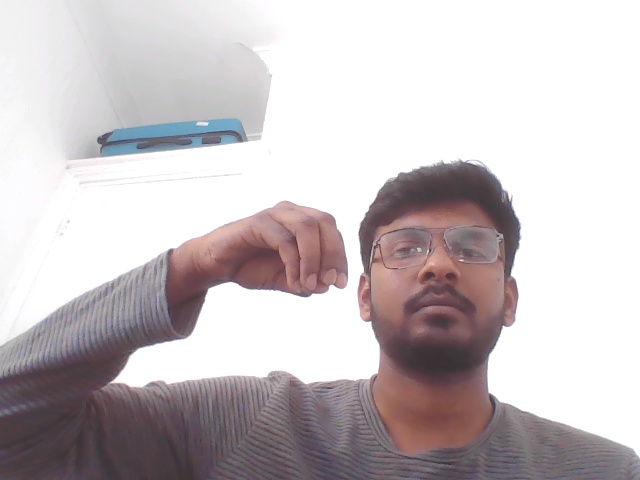Yes: (155, 190, 358, 349)
